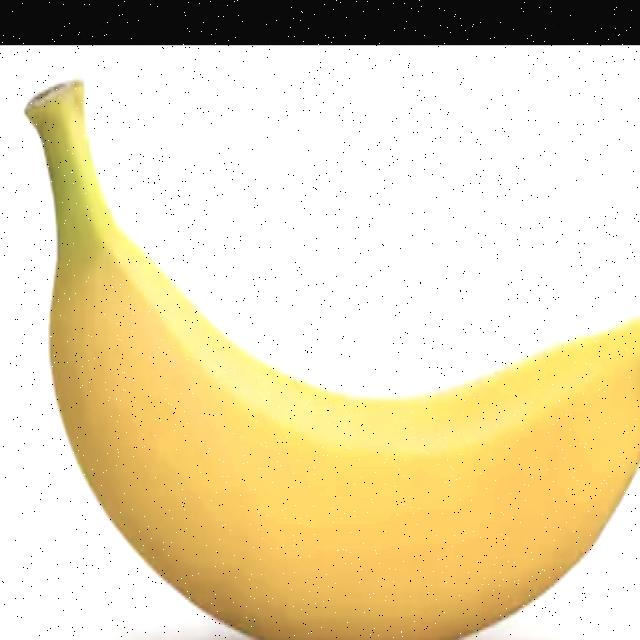Ripe: (16, 67, 640, 640)
